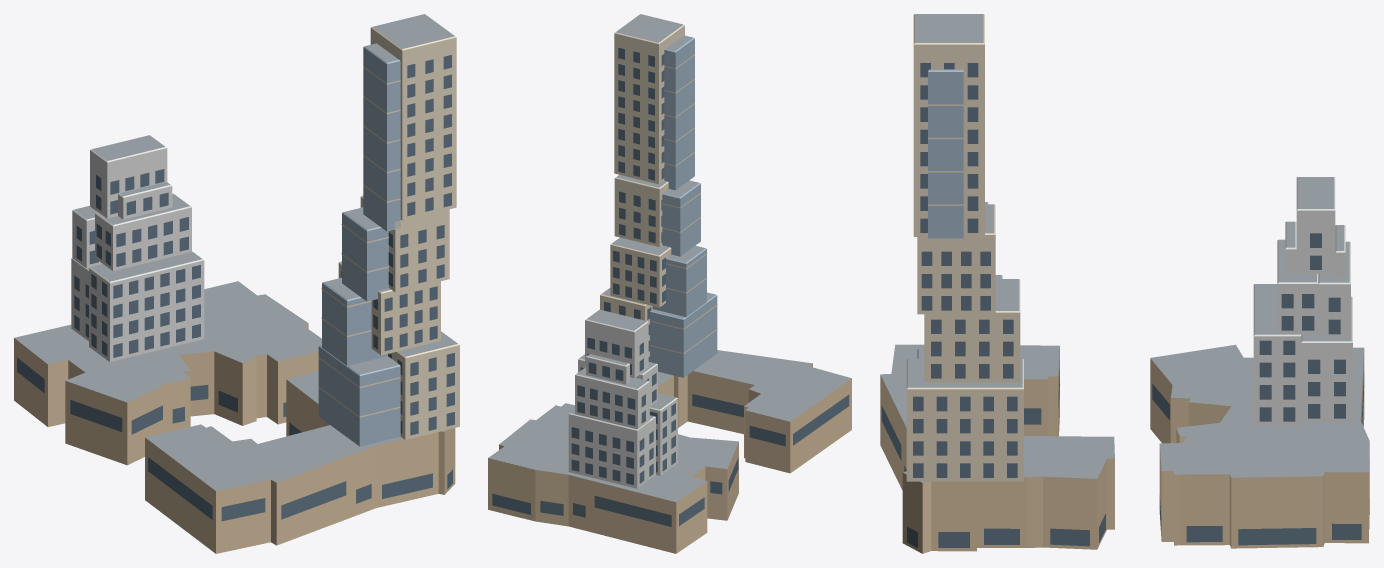
Rendered from la-grand-la.glb.
The picture shows the model from 3 angles, left to right: view 1: azimuth 30°, elevation 25°; view 2: azimuth 150°, elevation 25°; view 3: azimuth 270°, elevation 25°; orthographic projection. The views are drawn at different scales.
Parts seen in each view (by area): view 1: The Grand LA; view 2: The Grand LA; view 3: The Grand LA.
Part boxes in pixels (left/top/right/bottom): The Grand LA: left=14, top=14, right=459, bottom=553; The Grand LA: left=488, top=14, right=851, bottom=553; The Grand LA: left=880, top=14, right=1369, bottom=553.
Size of the model in its own units: 92.38 by 158 by 138.
